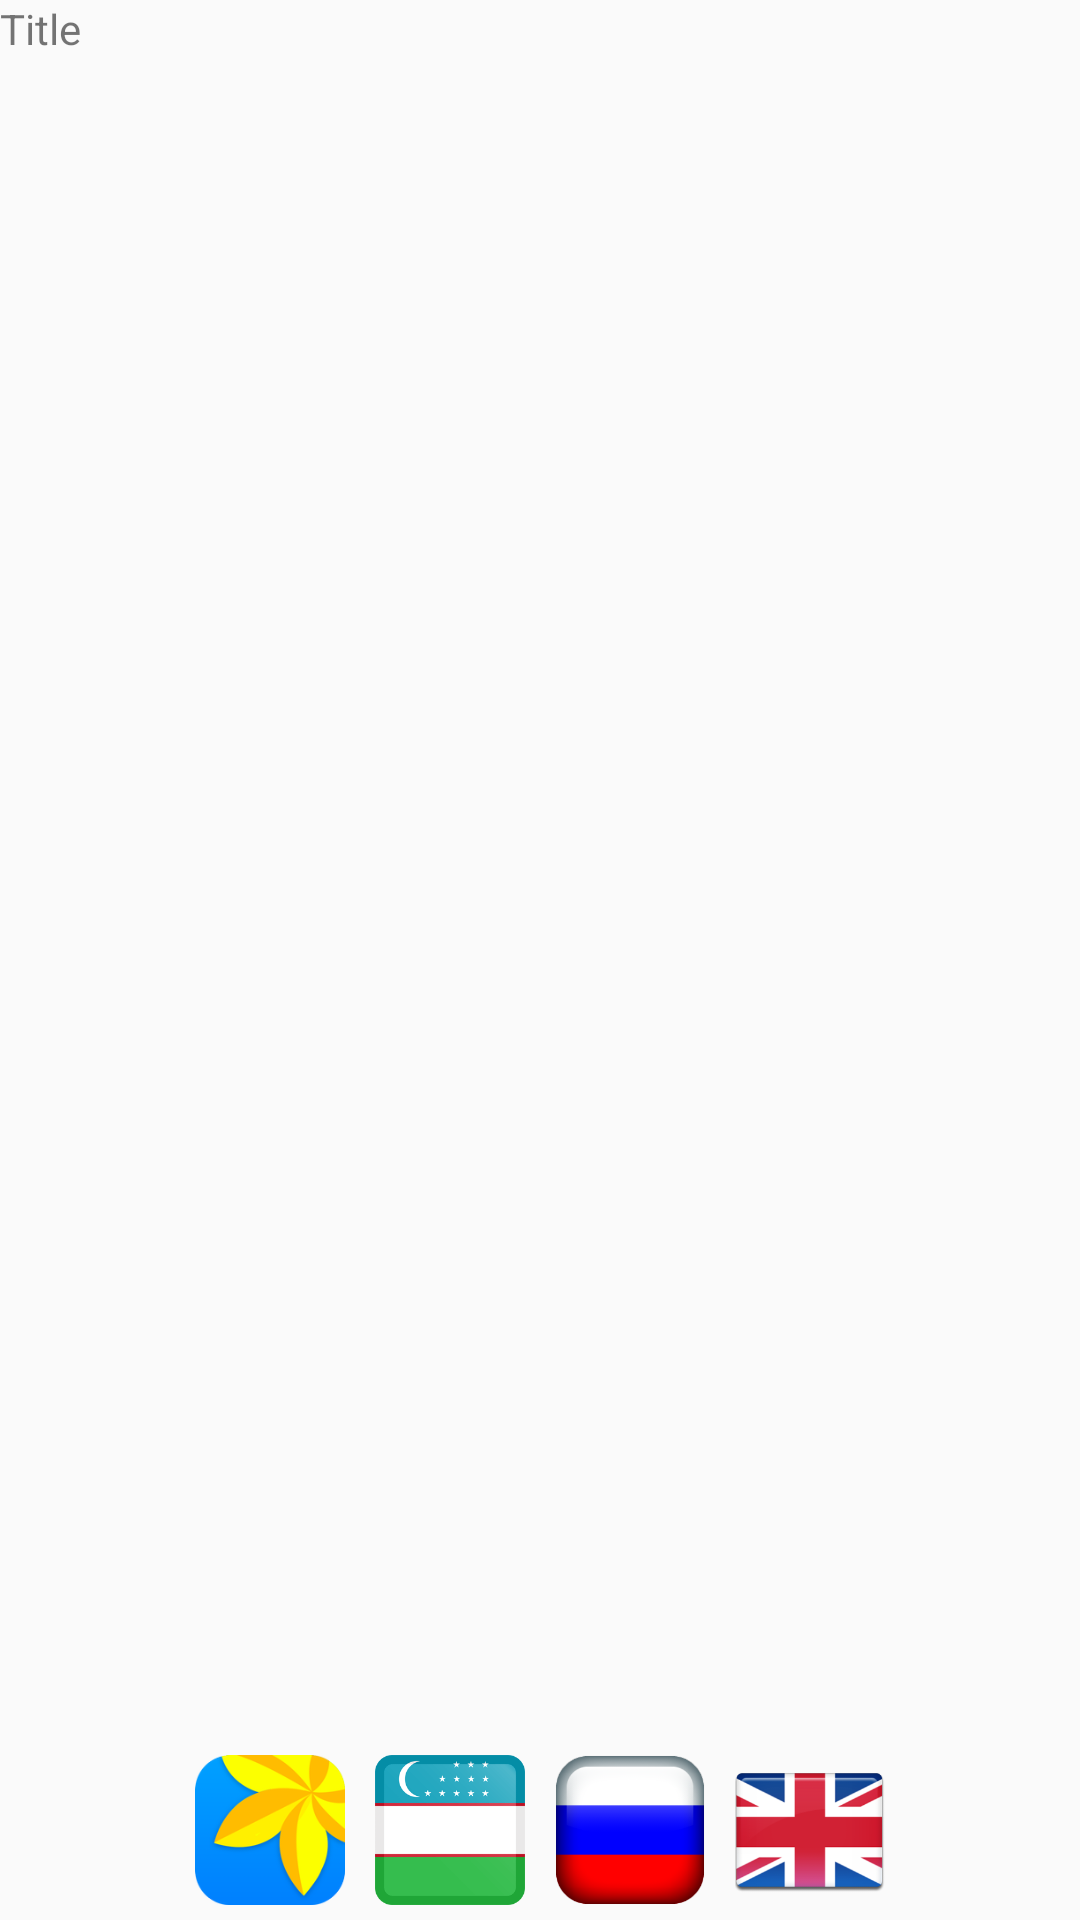

Icon click points for this 1080*1920 phone screenshot, format (x=x, y=y):
bottom en: (x=809, y=1832)
bottom ru: (x=630, y=1830)
bottom uz: (x=450, y=1830)
